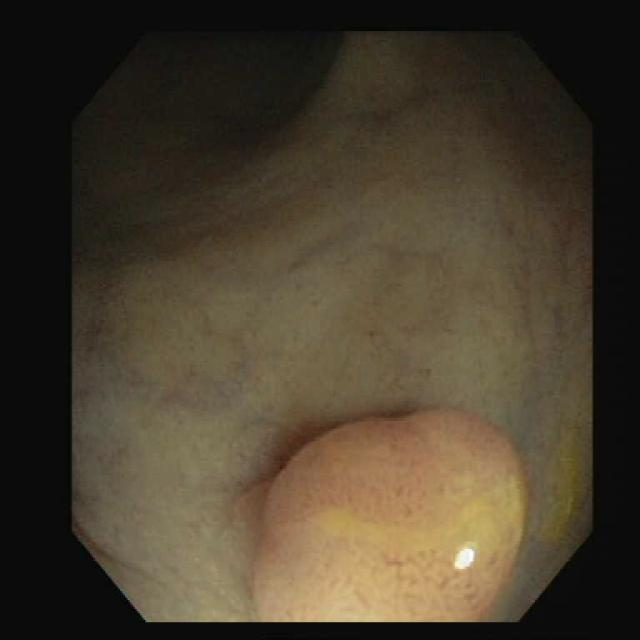tumor: (253, 411, 525, 620)
